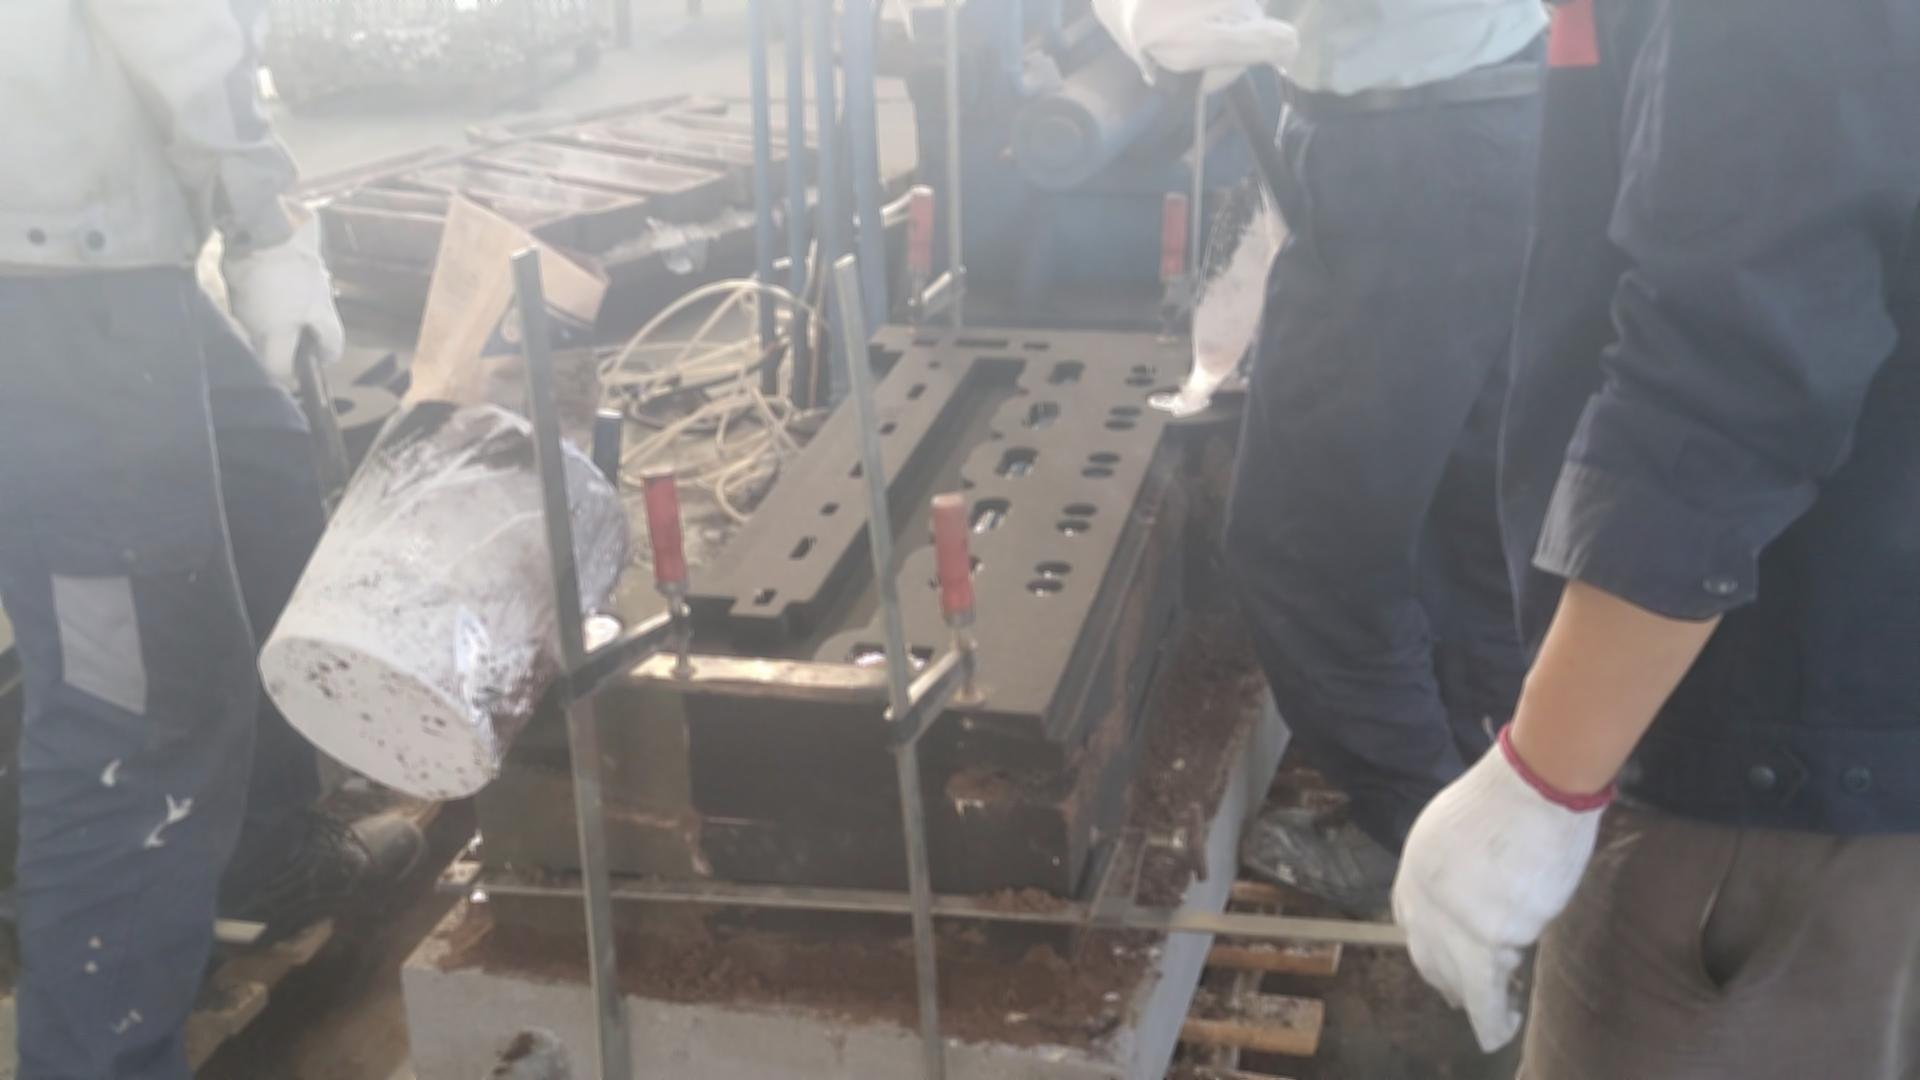pouring hole: (555, 609, 624, 658), (1147, 386, 1213, 411), (294, 396, 356, 419)
